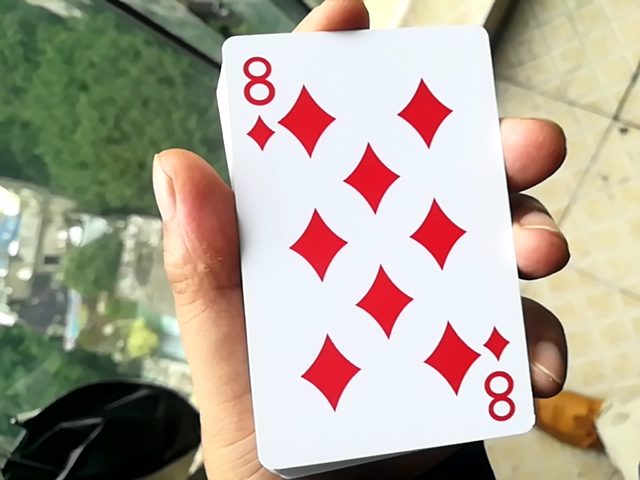fk 8: (201, 8, 531, 473)
